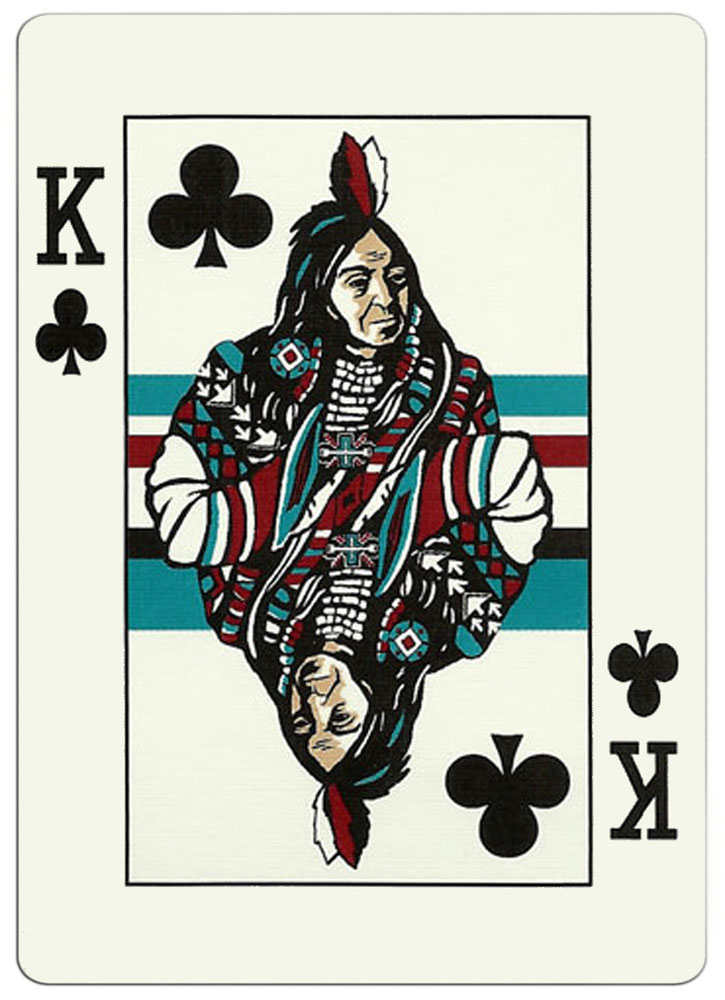king of clubs: (18, 19, 715, 981)
